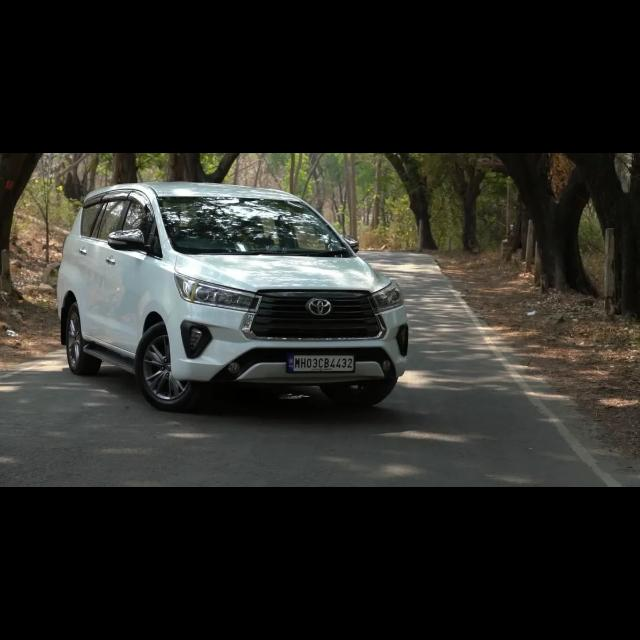number-plate: (286, 356, 356, 377)
vehicles: (55, 187, 410, 410)
